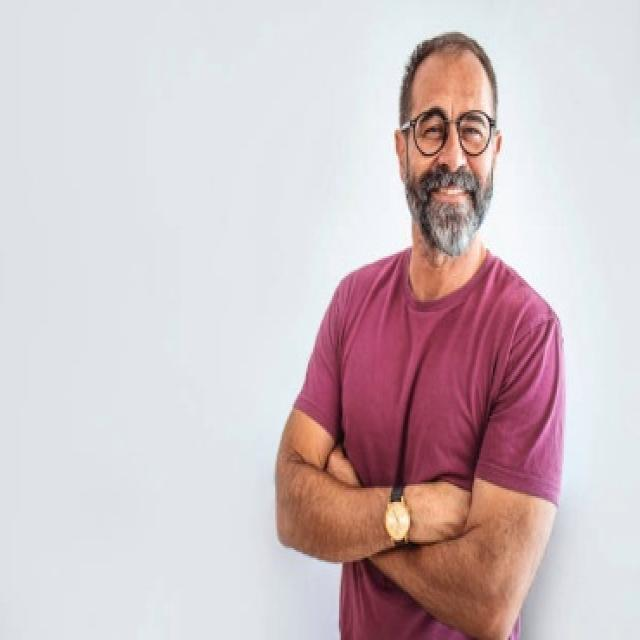adult: (263, 25, 568, 640)
